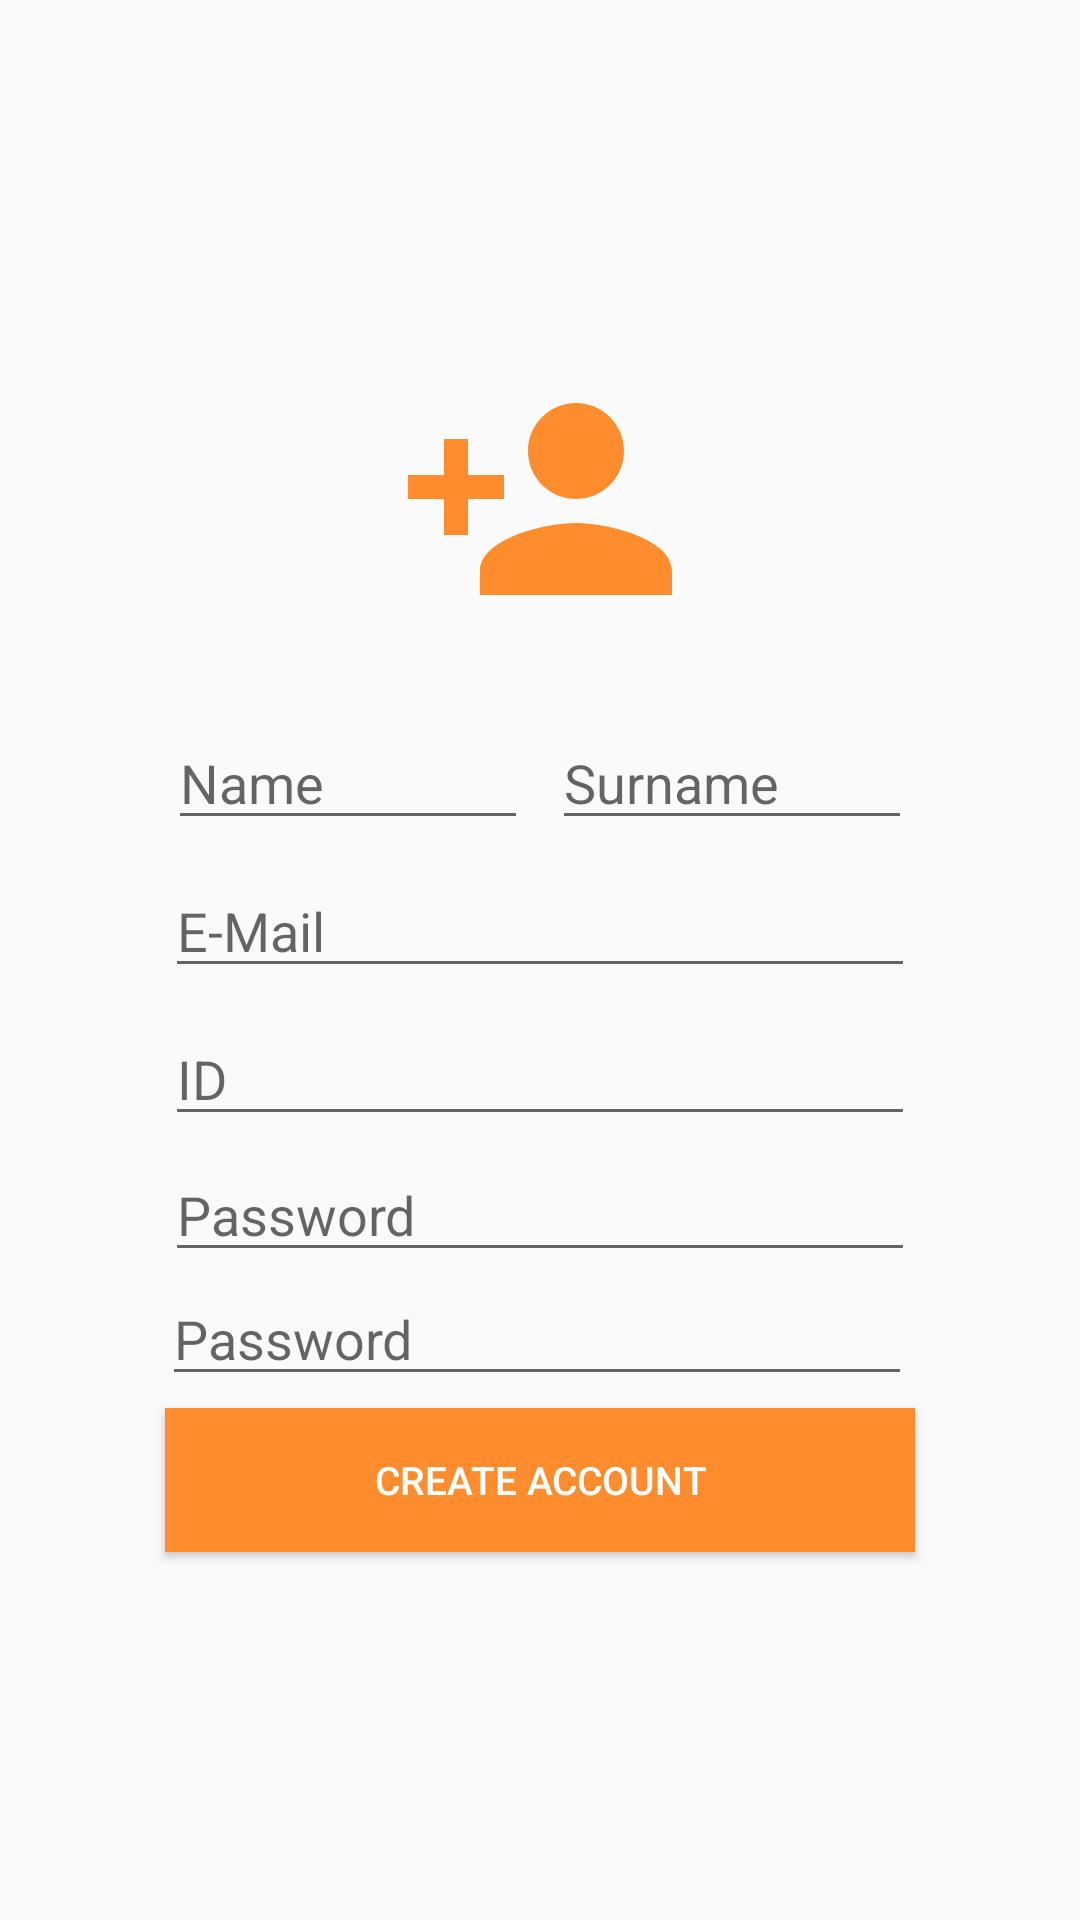

Locate icon controls on the screen. Image size 1080px x 1920px, boxes as (x1, y1, x2, y2).
add: (408, 403, 672, 595)
